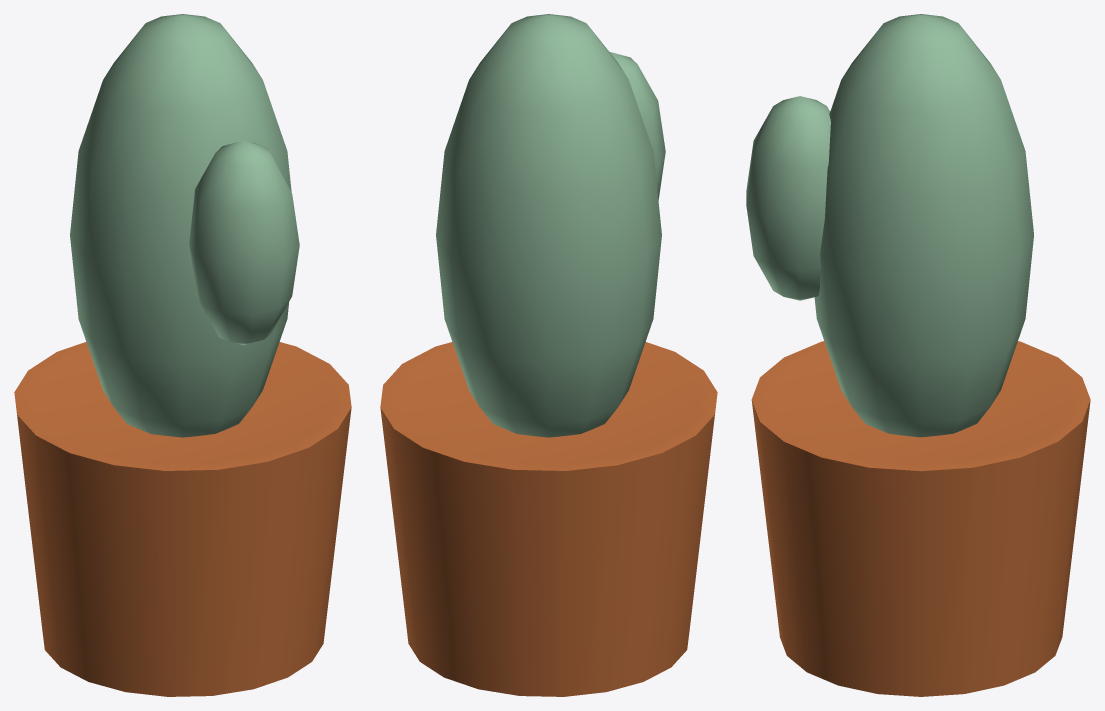
Rendered from cactus_bookshelf.fbx.
The picture shows the model from 3 angles, left to right: view 1: azimuth 30°, elevation 25°; view 2: azimuth 150°, elevation 25°; view 3: azimuth 270°, elevation 25°; orthographic projection.
Visible parts, largest first — view 1: cactus_bookshelf; view 2: cactus_bookshelf; view 3: cactus_bookshelf.
Part boxes in pixels (box(x1,y1,x2,y2)): cactus_bookshelf: box(14, 14, 351, 696); cactus_bookshelf: box(380, 14, 717, 696); cactus_bookshelf: box(746, 14, 1090, 696).
Bounding box in the file's own units: 0.084 × 0.17 × 0.0853.
